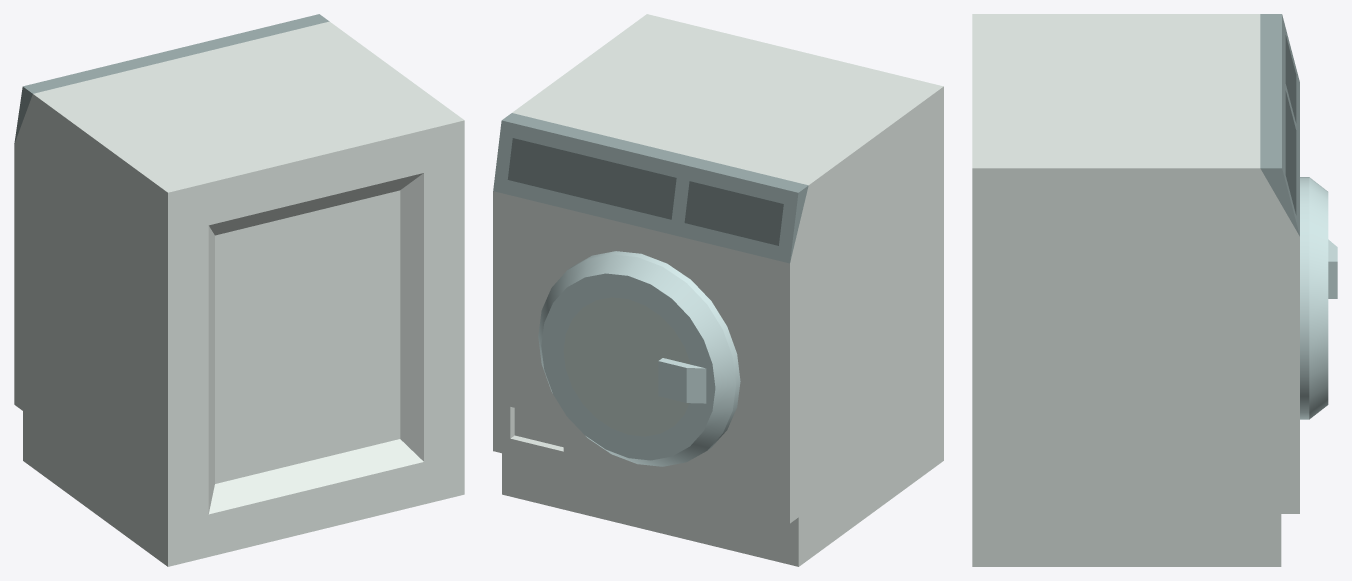
Rendered from washer.glb.
3 renders of one model, left to right at view 1: azimuth 30°, elevation 25°; view 2: azimuth 150°, elevation 25°; view 3: azimuth 270°, elevation 25°, orthographic. The views are drawn at different scales.
Parts seen in each view (by area): view 1: _MeshInstance3D_647; view 2: _MeshInstance3D_647, _MeshInstance3D_646; view 3: _MeshInstance3D_647, _MeshInstance3D_646.
Boxes of the visible parts, x1,y1,x2,y2 form: _MeshInstance3D_647: (14,14,464,566); _MeshInstance3D_647: (493,14,943,566); _MeshInstance3D_646: (538,251,740,466); _MeshInstance3D_647: (972,14,1299,566); _MeshInstance3D_646: (1300,177,1337,419).
Size of the model in its own units: 3.9 by 4.7 by 3.9.
